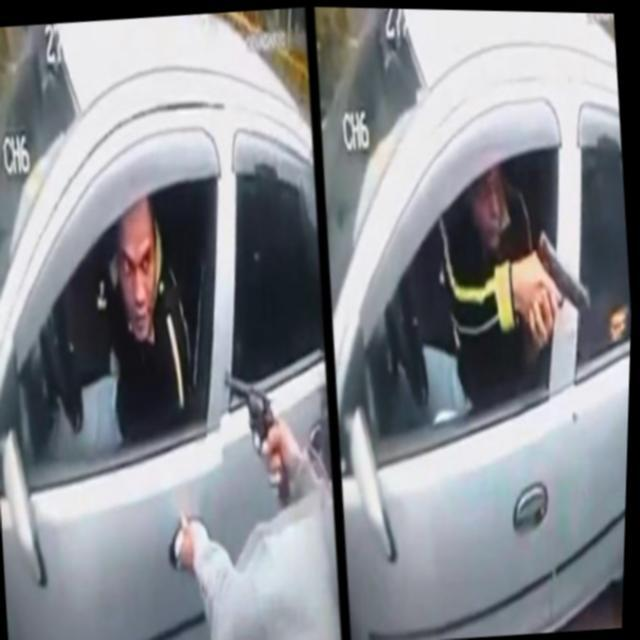weapon: (222, 362, 296, 508), (536, 222, 596, 321)
